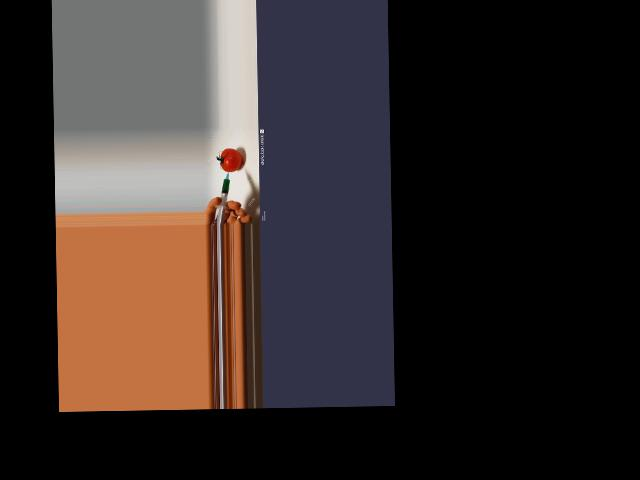tomato: (221, 148, 242, 172)
